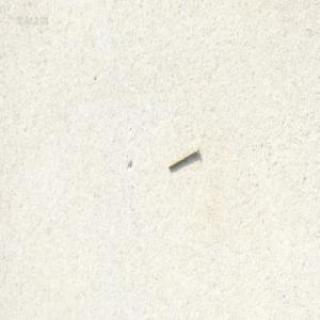Bolttrack_idkeyframe: (166, 144, 198, 169)
